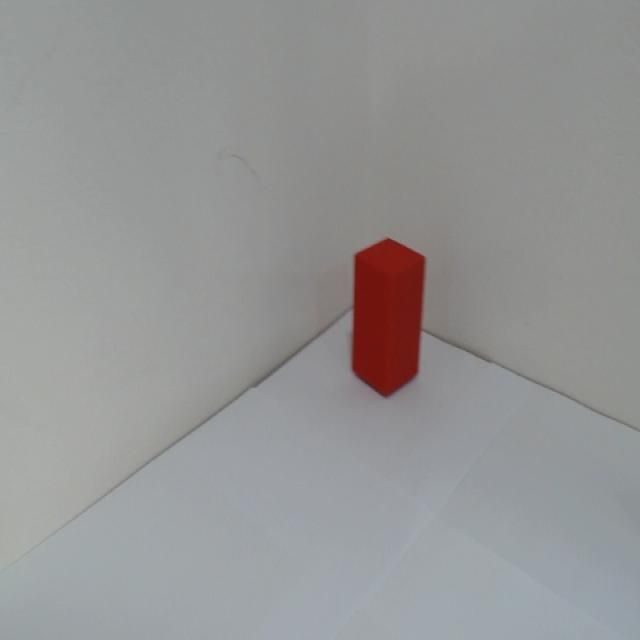cube: (348, 231, 428, 402)
